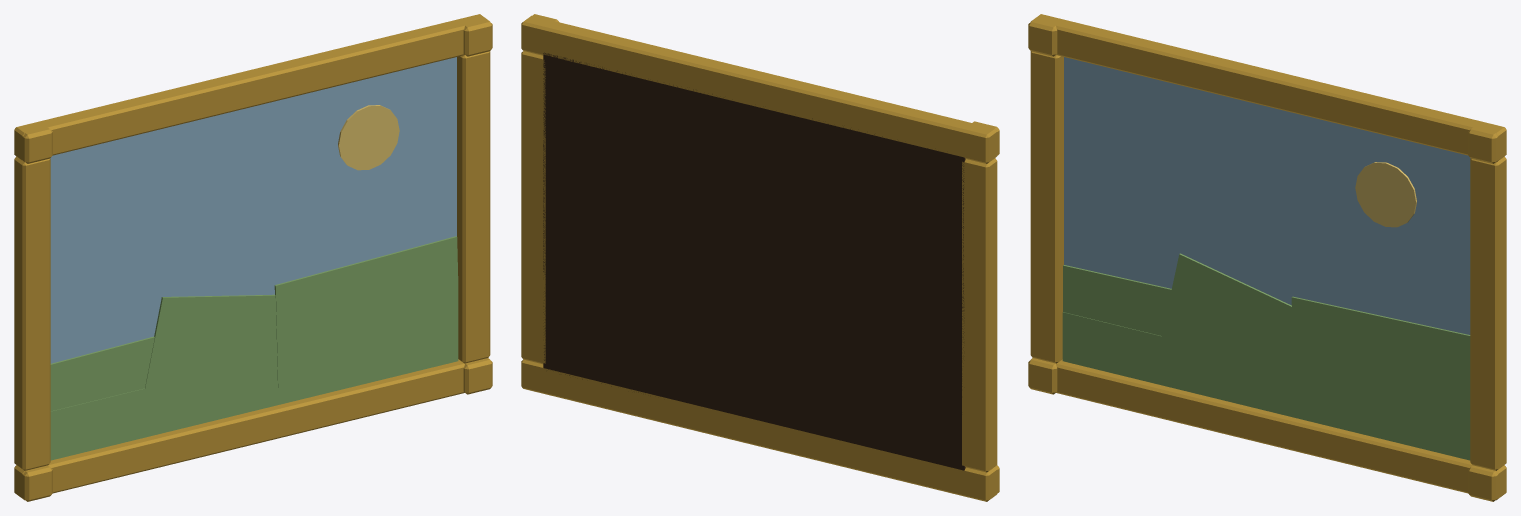
Rendered from Prop_Gal_LivingFrame_Half.glb.
3 renders of one model, left to right at view 1: azimuth 30°, elevation 25°; view 2: azimuth 150°, elevation 25°; view 3: azimuth 330°, elevation 25°, orthographic.
Visible parts, largest first — view 1: Prop_Gal_LivingFrame_Half_Canvas, Prop_Gal_LivingFrame_Half; view 2: Prop_Gal_LivingFrame_Half; view 3: Prop_Gal_LivingFrame_Half_Canvas, Prop_Gal_LivingFrame_Half.
Boxes of the visible parts, box(x1,y1,x2,y2) form: Prop_Gal_LivingFrame_Half_Canvas: box(50, 57, 458, 460); Prop_Gal_LivingFrame_Half: box(14, 14, 492, 501); Prop_Gal_LivingFrame_Half: box(521, 14, 999, 501); Prop_Gal_LivingFrame_Half_Canvas: box(1062, 57, 1470, 460); Prop_Gal_LivingFrame_Half: box(1028, 14, 1506, 501).
Size of what is drawn, in the model's own units: 2 by 1.5 by 0.1.
